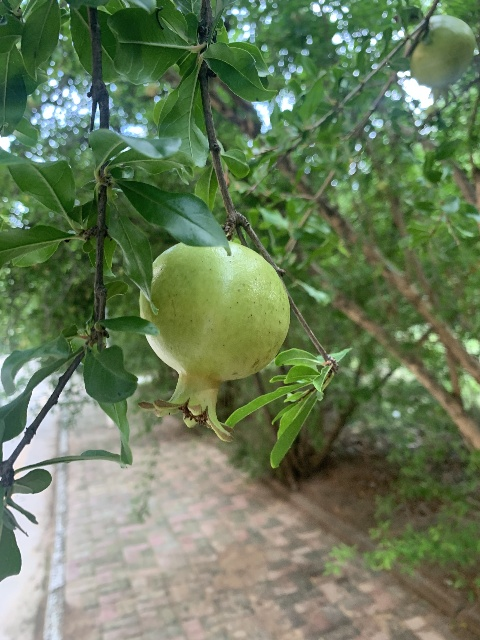mid-growth: (136, 241, 290, 442), (406, 14, 475, 103)
